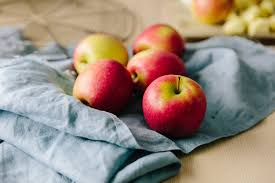apple: (139, 78, 208, 141), (77, 61, 132, 113), (129, 53, 189, 98), (133, 21, 189, 61), (75, 33, 129, 71)
